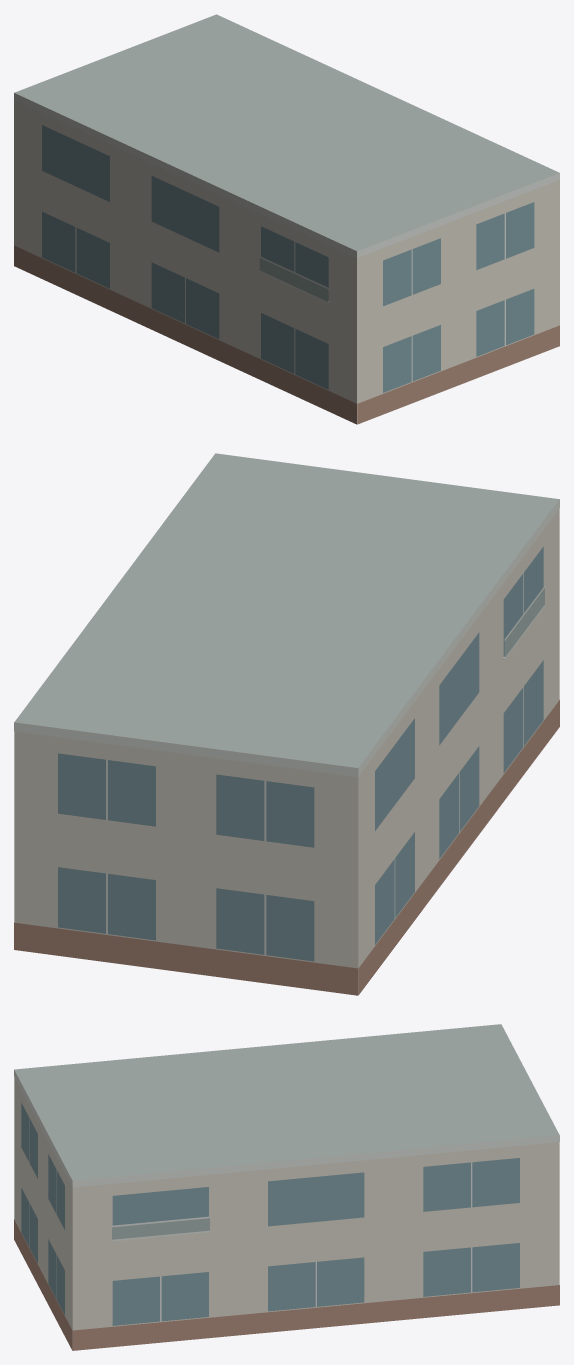
File: survey-upis-32709173.glb
3 renders of one model, top to bottom at view 1: azimuth 30°, elevation 25°; view 2: azimuth 150°, elevation 25°; view 3: azimuth 270°, elevation 25°, orthographic. The views are drawn at different scales.
Visible parts, largest first — view 1: survey-upis-32709173.tmp; view 2: survey-upis-32709173.tmp; view 3: survey-upis-32709173.tmp.
Boxes of the visible parts, x1,y1,x2,y2 form: survey-upis-32709173.tmp: (14, 14, 559, 424); survey-upis-32709173.tmp: (14, 453, 559, 995); survey-upis-32709173.tmp: (14, 1024, 559, 1350).
Size of the model in its own units: 12.07 by 6.1 by 17.75.
